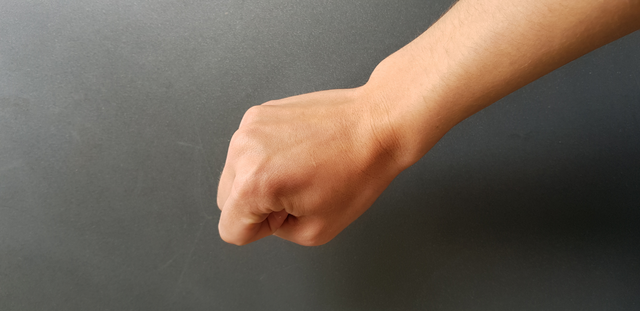Rock: (191, 77, 427, 251)
